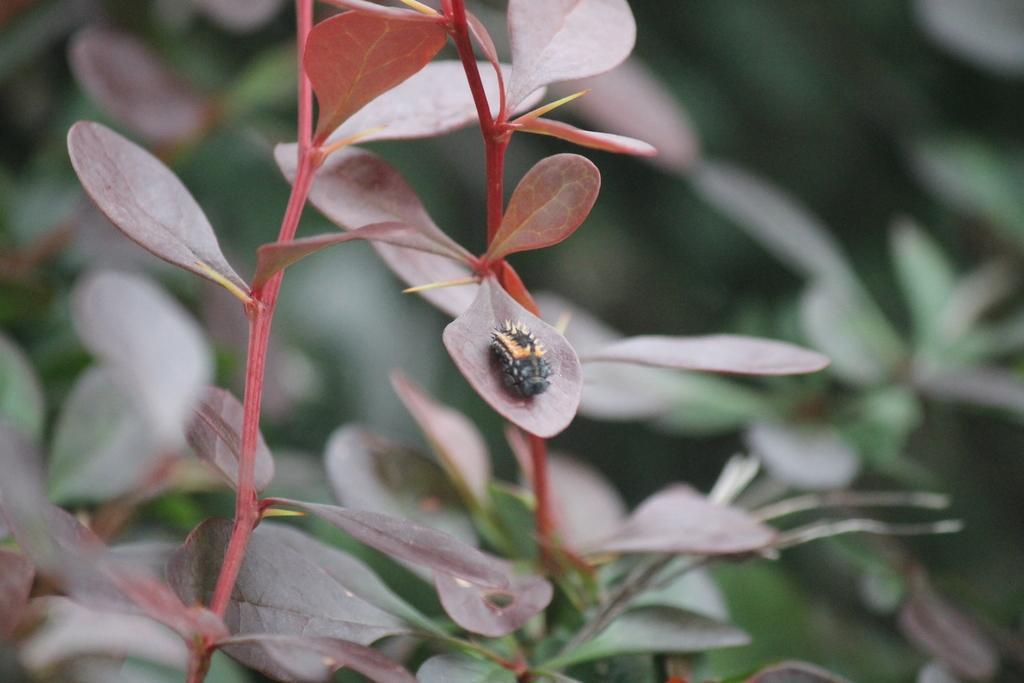ladybug: (487, 317, 556, 402)
